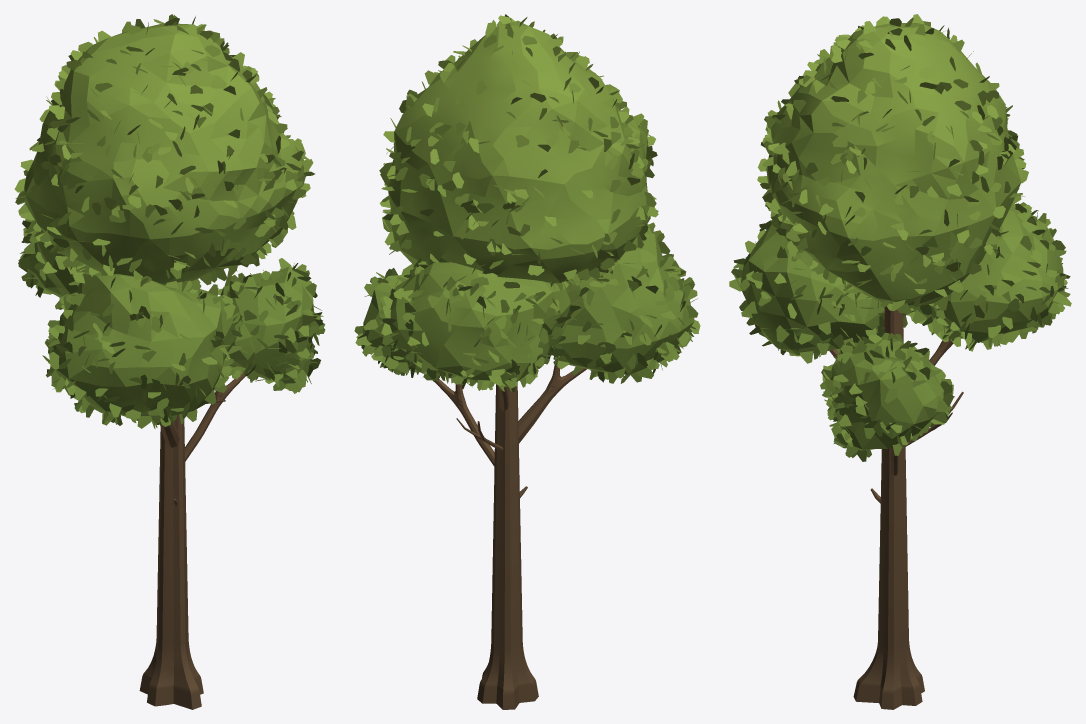
Rendered from Tree_01.fbx.
3 renders of one model, left to right at view 1: azimuth 30°, elevation 25°; view 2: azimuth 150°, elevation 25°; view 3: azimuth 270°, elevation 25°, orthographic.
Visible parts, largest first — view 1: Tree_01_LOD0; view 2: Tree_01_LOD0; view 3: Tree_01_LOD0.
Boxes of the visible parts, left/top/right/bottom form: Tree_01_LOD0: left=14, top=14, right=325, bottom=709; Tree_01_LOD0: left=354, top=14, right=700, bottom=709; Tree_01_LOD0: left=729, top=14, right=1071, bottom=709.
Size of what is drawn, in the model's own units: 3.45 by 7.47 by 3.44.
